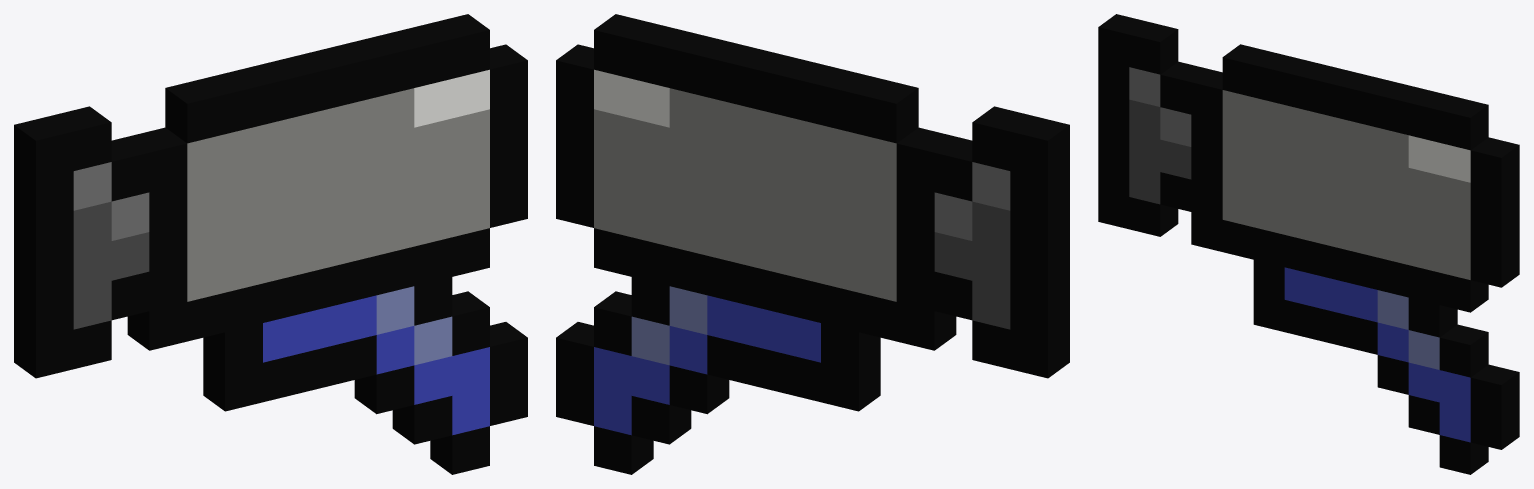
File: Light Gray Paintball Gun.glb
3 renders of one model, left to right at view 1: azimuth 30°, elevation 25°; view 2: azimuth 150°, elevation 25°; view 3: azimuth 330°, elevation 25°, orthographic. The views are drawn at different scales.
Visible parts, largest first — view 1: generated(Clone); view 2: generated(Clone); view 3: generated(Clone).
Part boxes in pixels (x1,y1,x2,y2): generated(Clone): [14, 14, 527, 474]; generated(Clone): [556, 14, 1069, 474]; generated(Clone): [1098, 14, 1519, 474].
Bounding box in the file's own units: 13 × 11 × 1.
Materials: 1 (1 with a texture image).
